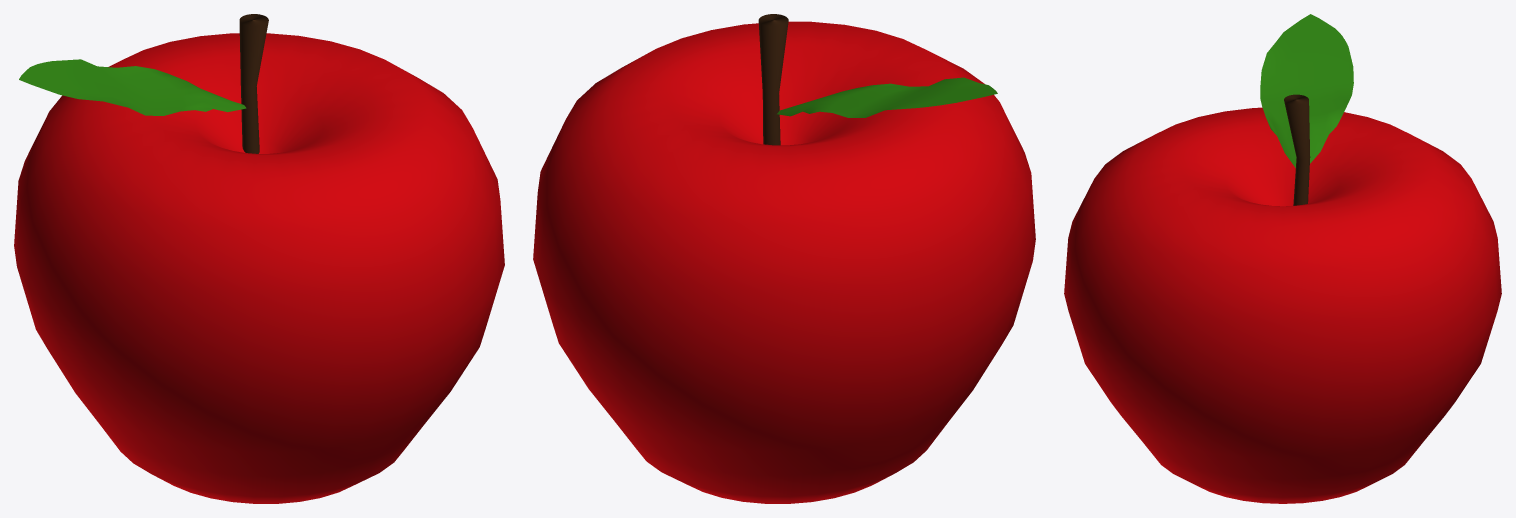
Rendered from tao.glb.
3 views of the same model, side by side, from view 1: azimuth 30°, elevation 25°; view 2: azimuth 150°, elevation 25°; view 3: azimuth 270°, elevation 25° (orthographic). The views are drawn at different scales.
Visible parts, largest first — view 1: than, la, cuong; view 2: than, la, cuong; view 3: than, la, cuong.
Part boxes in pixels (x1,y1,x2,y2): than: (14, 33, 504, 503); la: (19, 59, 246, 115); cuong: (239, 14, 268, 153); than: (533, 21, 1035, 503); la: (777, 77, 997, 117); cuong: (758, 14, 788, 145); than: (1064, 107, 1501, 503); la: (1260, 14, 1353, 167); cuong: (1284, 94, 1310, 205).
Bounding box in the file's own units: 2.14 × 2.01 × 2.19.
